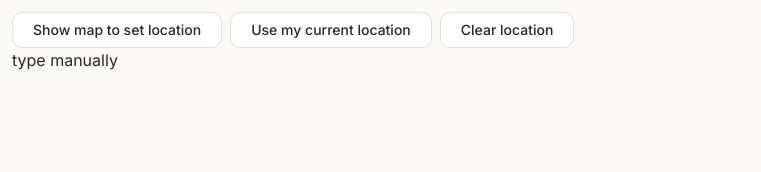
CoordinatePicker — use my current location (ATP-80) › refuses a device location outside Africa: nothing is set and the reason is shown
Click the button "Use my current location": [331, 30] box top-left (230, 12), bottom-right (432, 48)
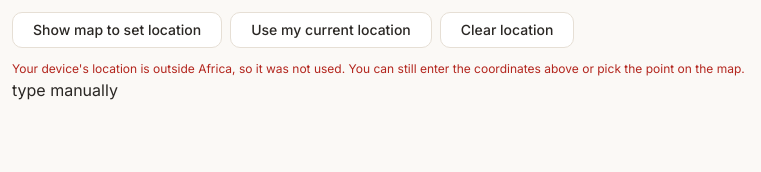
Check: the message shows "outside Africa, so it was not used", box top-left (12, 61), bottom-right (745, 76)
